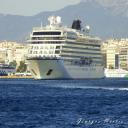cruises: (25, 13, 108, 82)
